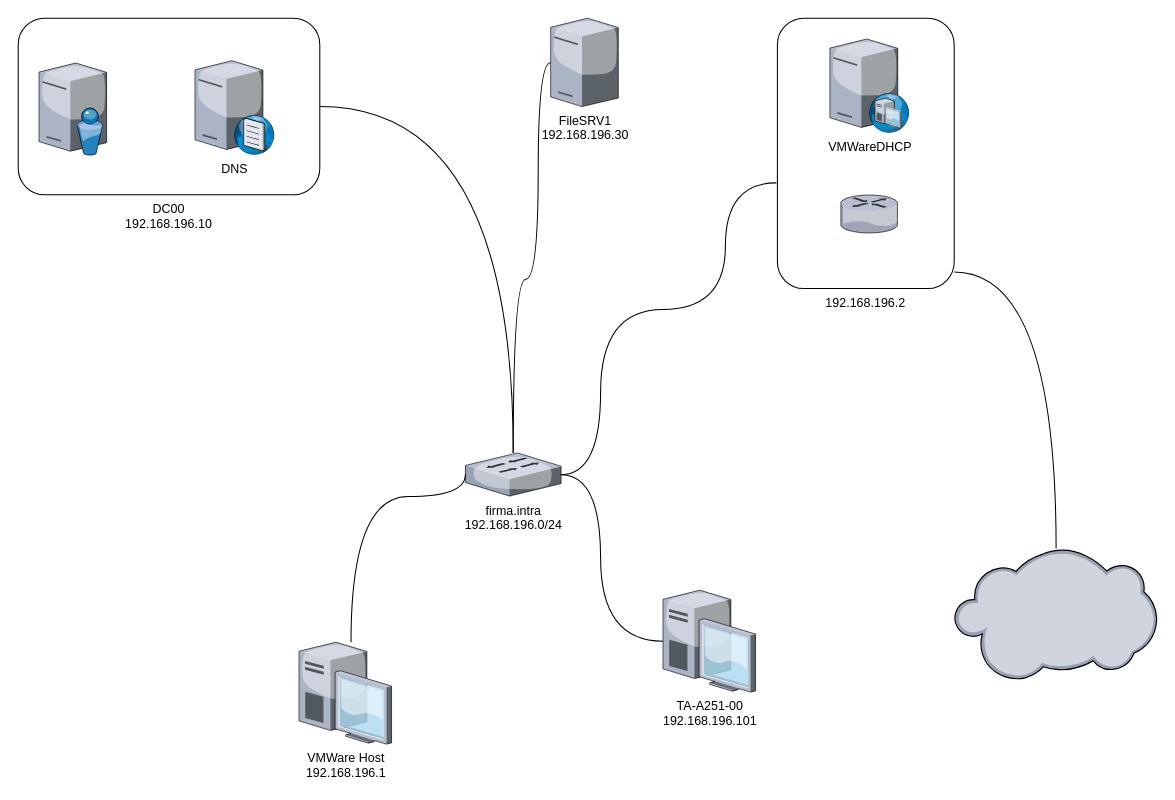
Some shapes in this 1175 by 800 pixel diagram are drawn without their labels. Each missing label, with the centre of its shape:
"AD" goes at point 72,109.
"Internet" goes at point 1055,614.
"VMWare Default Gateway" goes at point 869,213.
